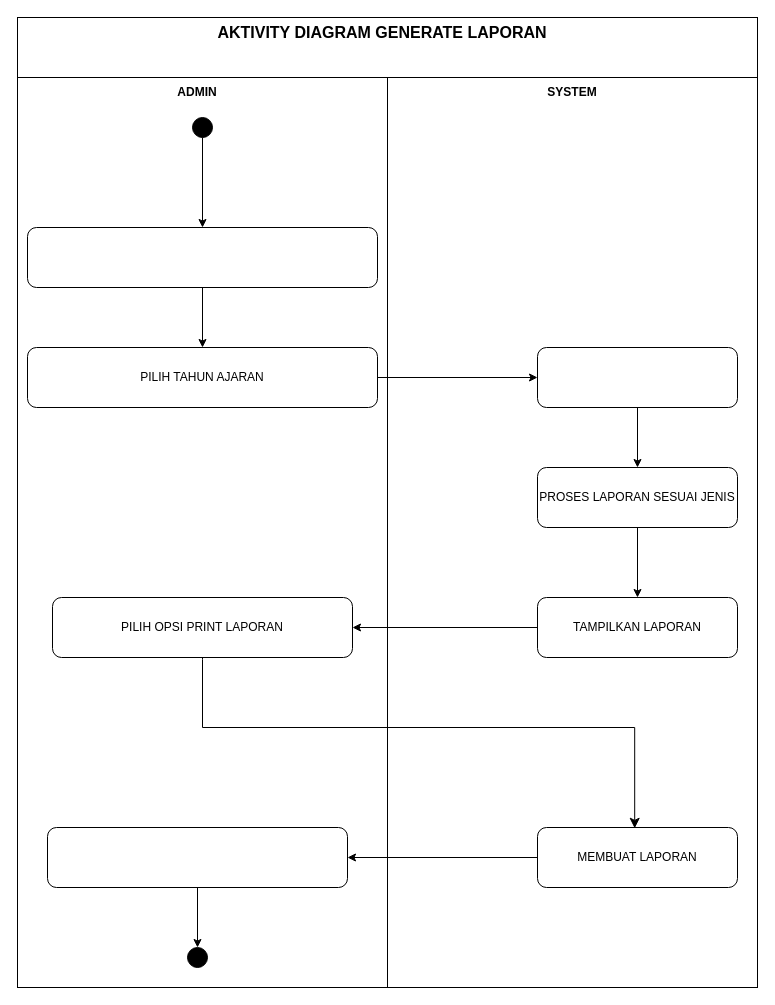
This 775x1005 diagram has some shape labels left out. The shapes that lost their labels are listed below. From the top down, each one's box as (x1, y1, x2, y2) in pixels, then its label:
(26, 226, 378, 288): PILIH JENIS LAPORAN (TRANSAKSI/PENGUNJUNG/DENDA/ANALISIS)
(536, 346, 738, 408): MENERIMA PERMINTAAN LAPORAN
(46, 826, 348, 888): DOWNLOAD/CETAK LAPORAN
